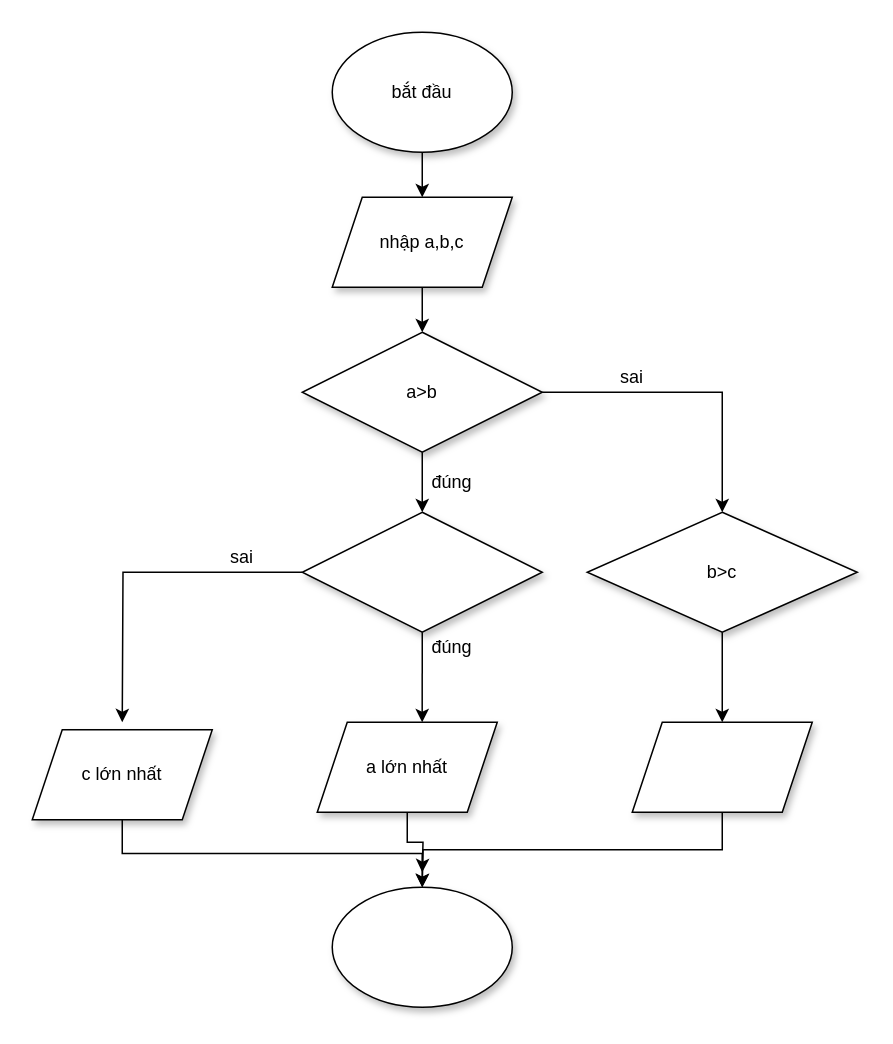
Some shapes in this 893 by 1044 pixel diagram are drawn without their labels. Each missing label, with the centre of its shape:
a>c: pixel 423 574
b lớn nhấ: pixel 723 769
kết thúc: pixel 423 949
